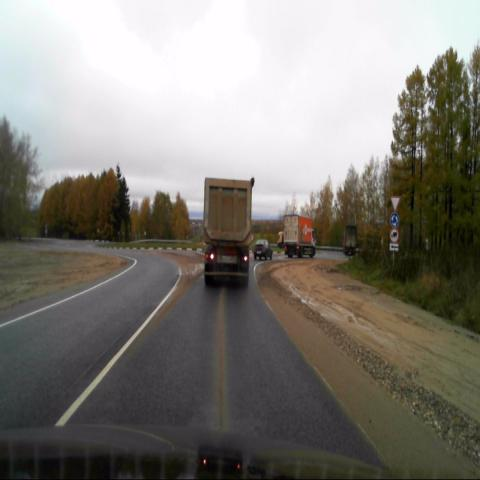2_4: (390, 196, 400, 211)
3_4_1: (390, 228, 399, 242)
4_3: (390, 213, 399, 226)
